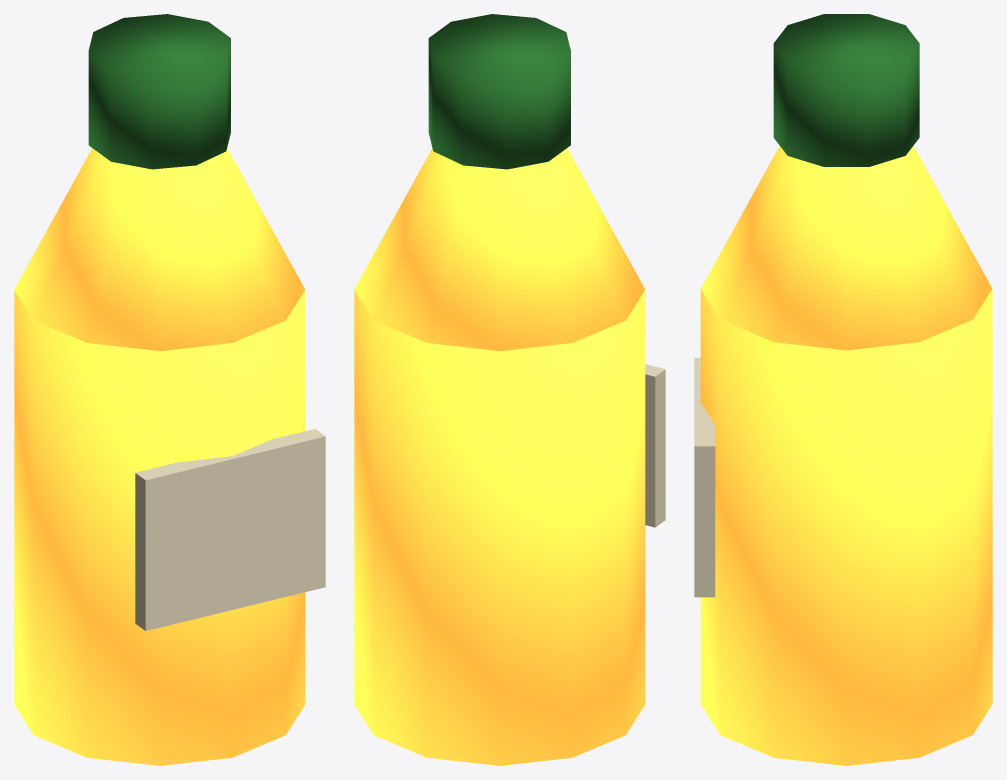
Rendered from prop_pickup_jamu.glb.
3 renders of one model, left to right at view 1: azimuth 30°, elevation 25°; view 2: azimuth 150°, elevation 25°; view 3: azimuth 270°, elevation 25°, orthographic.
Parts seen in each view (by area): view 1: pickup_jamu; view 2: pickup_jamu; view 3: pickup_jamu.
Part boxes in pixels (left/top/right/bottom): pickup_jamu: left=14, top=14, right=325, bottom=765; pickup_jamu: left=354, top=14, right=665, bottom=765; pickup_jamu: left=694, top=14, right=992, bottom=765.
Size of the model in its own units: 0.14 by 0.35 by 0.143.
